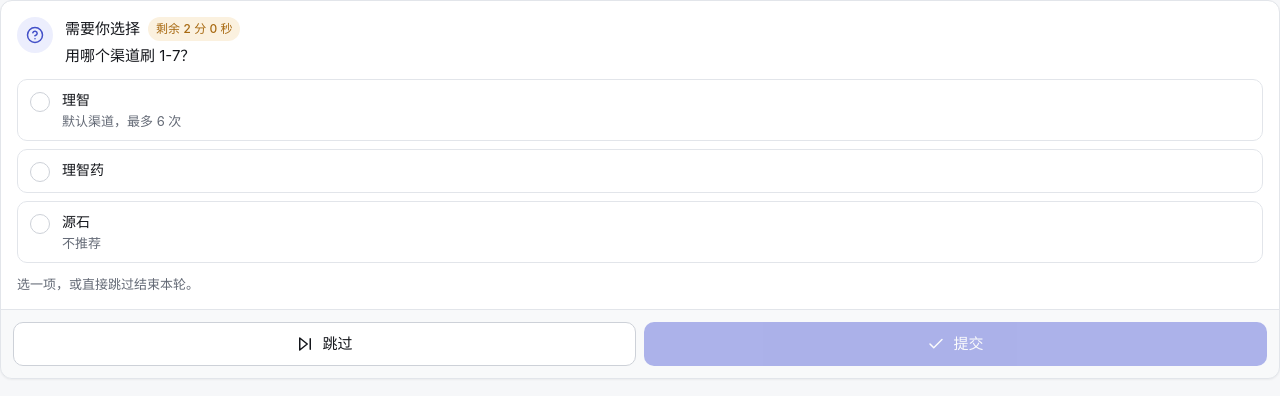
Test case: agent question card › turns a server-side expiry into the terminal state instead of a red error (M21)
Click the radio button labelled "理智药" at [83, 170], box [17,149,1263,193]
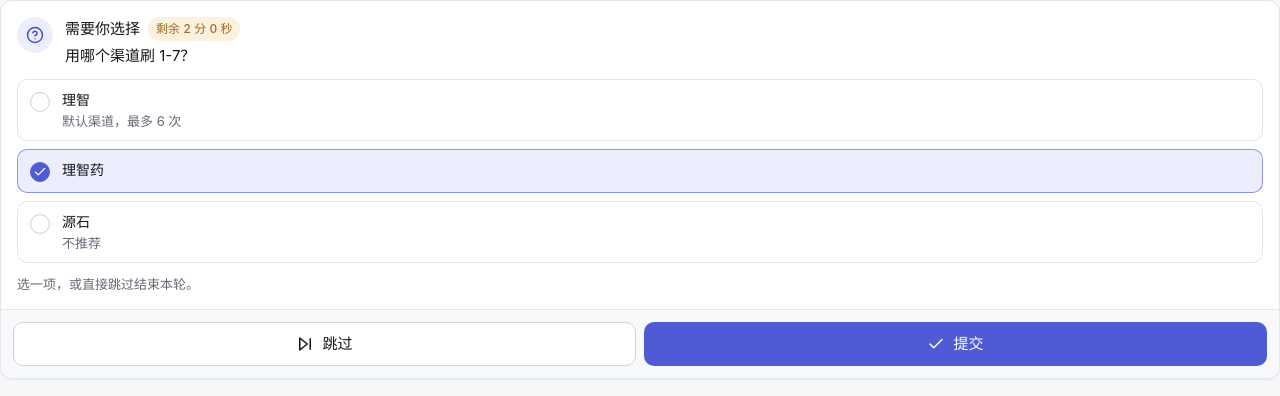
Click the button "提交" at [956, 344], box [644,322,1267,366]
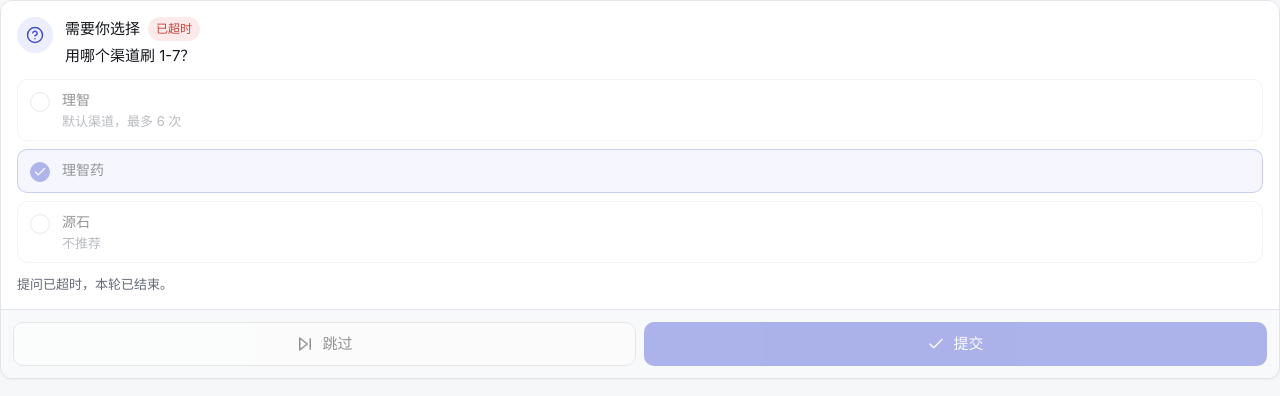
Result: the text "提问已超时，本轮已结束。" is shown at [17,276,173,292]
